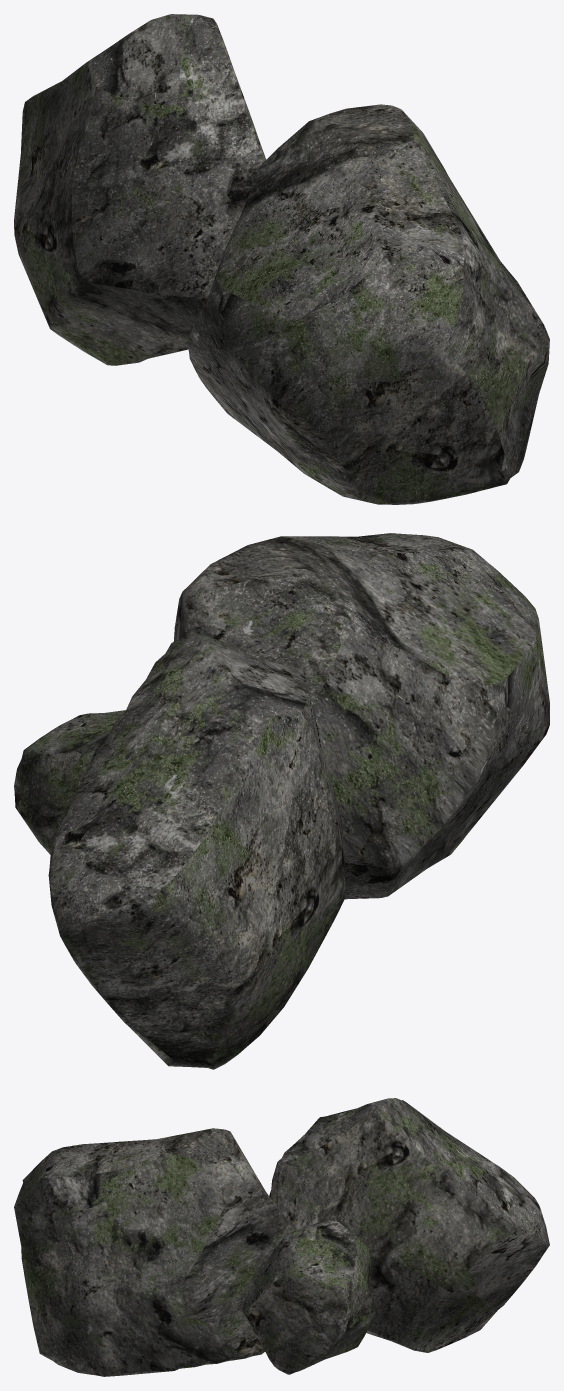
The model's file is Piedra1.fbx.
The picture shows the model from 3 angles, top to bottom: view 1: azimuth 30°, elevation 25°; view 2: azimuth 150°, elevation 25°; view 3: azimuth 270°, elevation 25°; orthographic projection. The views are drawn at different scales.
Visible parts, largest first — view 1: Object_42.001; view 2: Object_42.001; view 3: Object_42.001.
Part boxes in pixels (box(x1,y1,x2,y2)): Object_42.001: box(14, 14, 549, 504); Object_42.001: box(14, 533, 549, 1069); Object_42.001: box(14, 1098, 549, 1376).
Size of the model in its own units: 135 by 141 by 268.
Materials: 1 (1 with a texture image).
